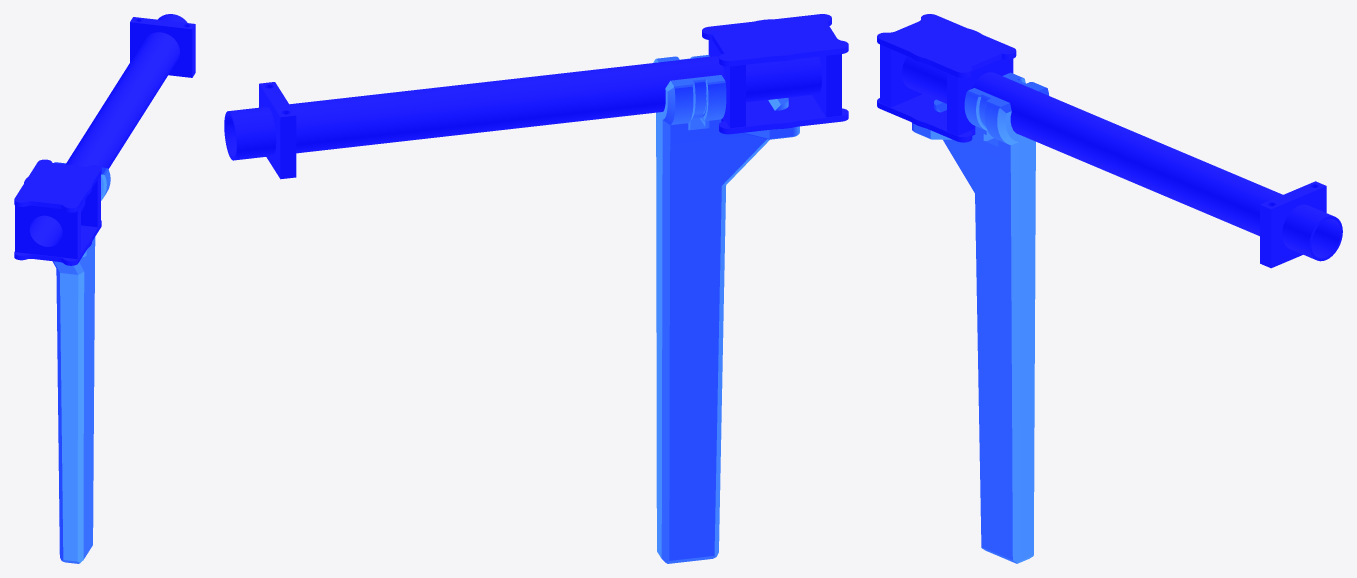
The model's file is x500_arm.dae.
3 views of the same model, side by side, from view 1: azimuth 30°, elevation 25°; view 2: azimuth 150°, elevation 25°; view 3: azimuth 270°, elevation 25° (orthographic). The views are drawn at different scales.
Parts seen in each view (by area): view 1: Object014; view 2: Object014; view 3: Object014.
Boxes of the visible parts, x1,y1,x2,y2 form: Object014: (14, 14, 195, 563); Object014: (224, 14, 848, 563); Object014: (877, 14, 1342, 563).
Size of the model in its own units: 0.1574 by 0.1574 by 0.181.
